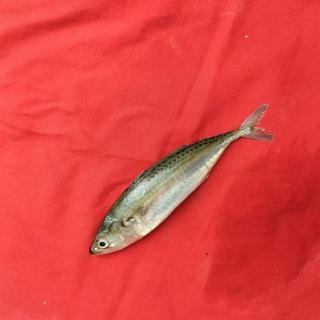Ikan: (80, 105, 286, 261)
